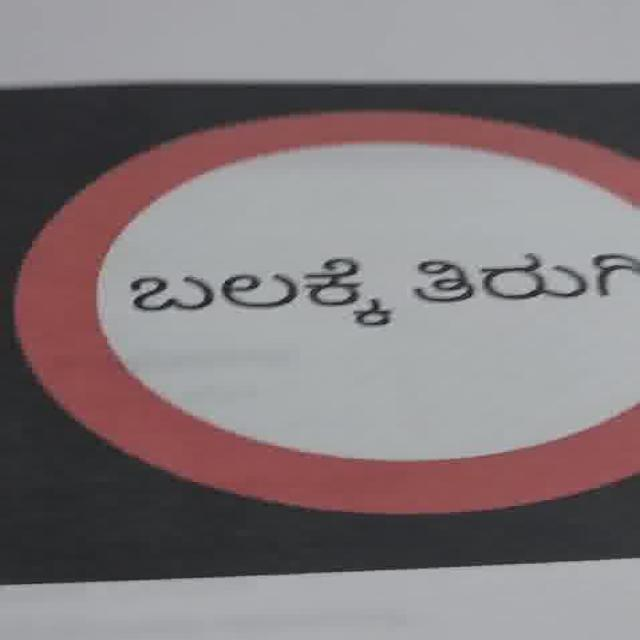kannadaright: (13, 107, 639, 515), (124, 250, 638, 327), (127, 255, 392, 327), (410, 250, 637, 302)
